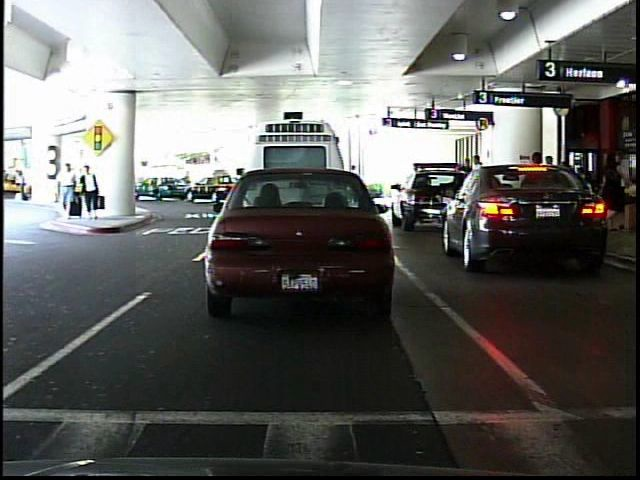person: (79, 160, 103, 222), (59, 157, 81, 218), (343, 158, 365, 201), (17, 166, 32, 205), (179, 165, 197, 196)
